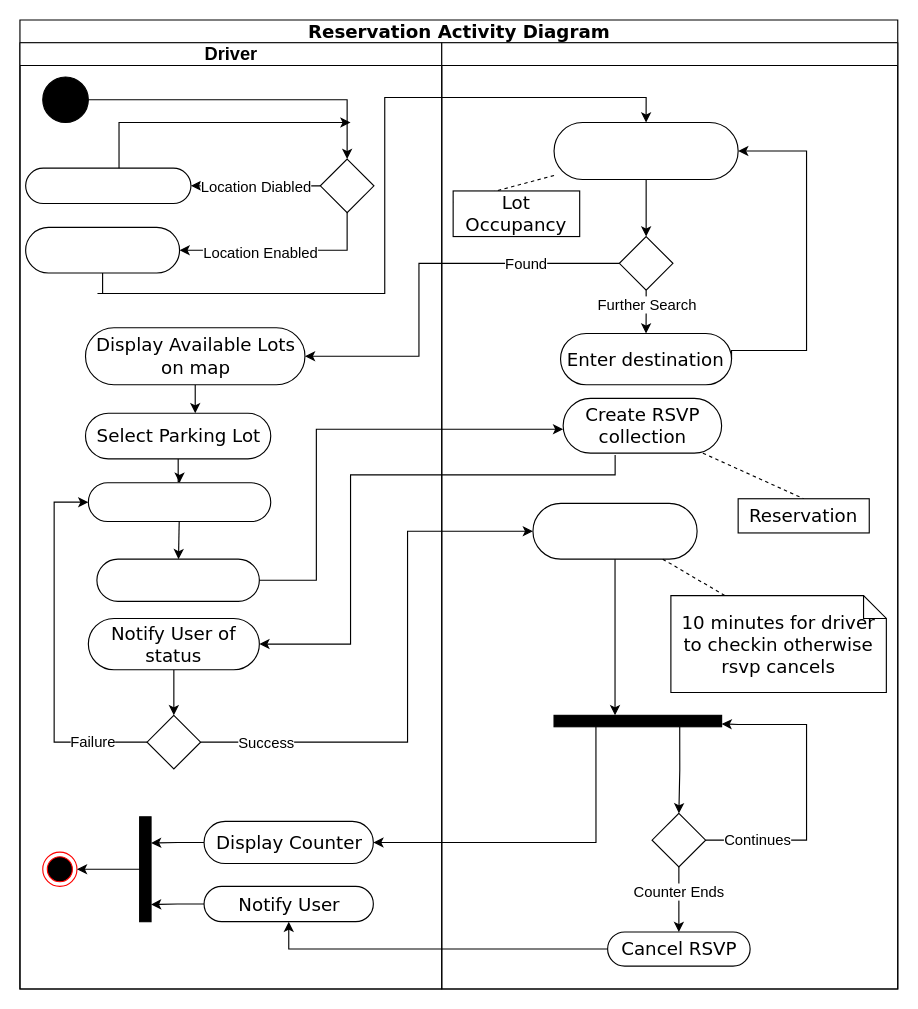
The diagram is 918 pixels wide and 1009 high, and some of its shapes have lost their labels. The shapes that lost their labels are listed below. From the top down, each one's box as (x1, y1, x2, y2) in pixels, then its label:
(553, 121, 738, 180): Search Available Parking Lot
(25, 167, 191, 203): Enable Location
(25, 226, 180, 273): Open Map Screen
(87, 482, 271, 522): Enter RSVP details
(441, 42, 898, 989): Mobile App
(532, 502, 697, 559): Start Countdoown
(96, 558, 259, 601): Submit RSVP
